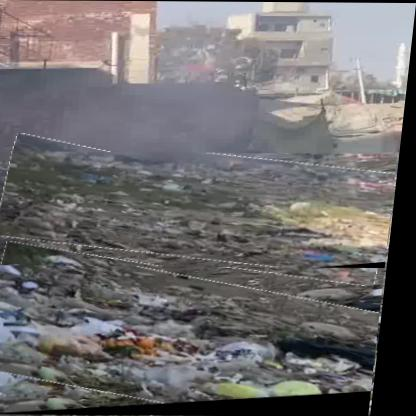Garbage: (1, 266, 393, 416), (1, 152, 403, 296)
